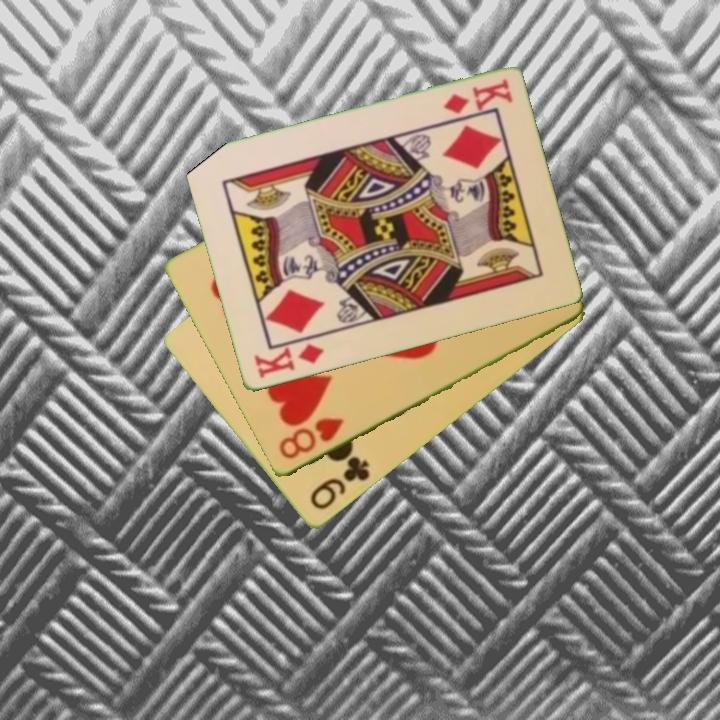8h: (275, 414, 347, 463)
9c: (306, 453, 373, 513)
Kd: (439, 75, 515, 118), (250, 340, 327, 382)
